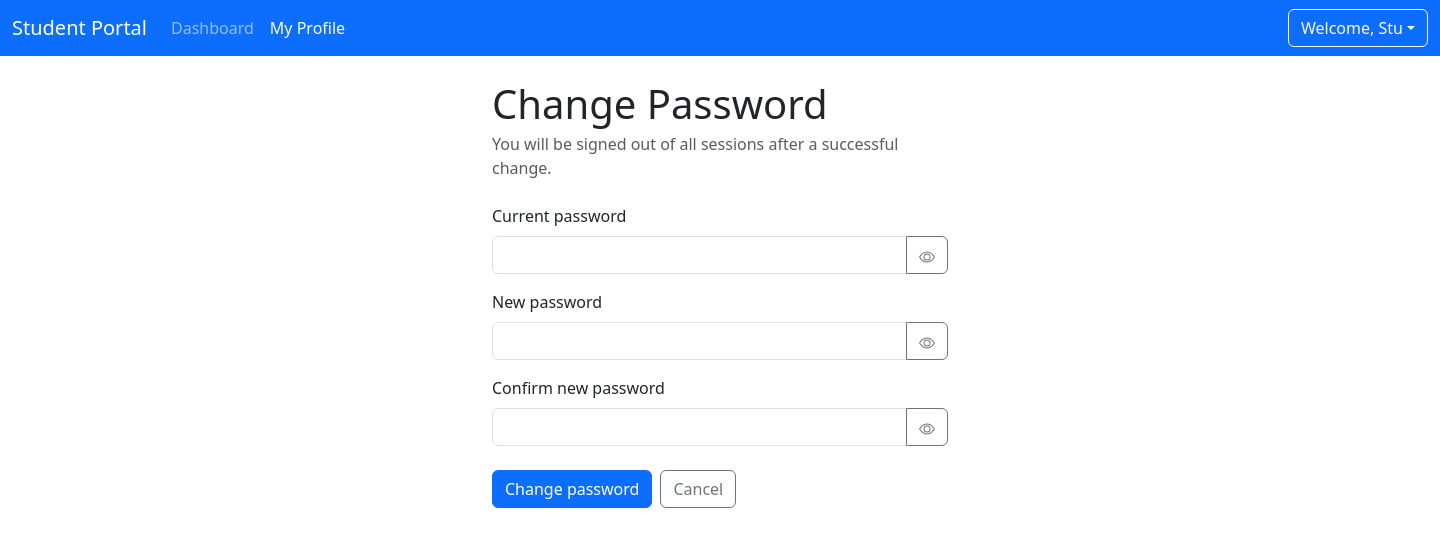
it: ChangePasswordPage (§5.10) › when the server returns 400 with a message then the field error renders inline
Type "wrong!PwdABC" into the password field labelled "Current password".
click(700, 255); type("wrong!PwdABC")  # box [492,236,907,274]
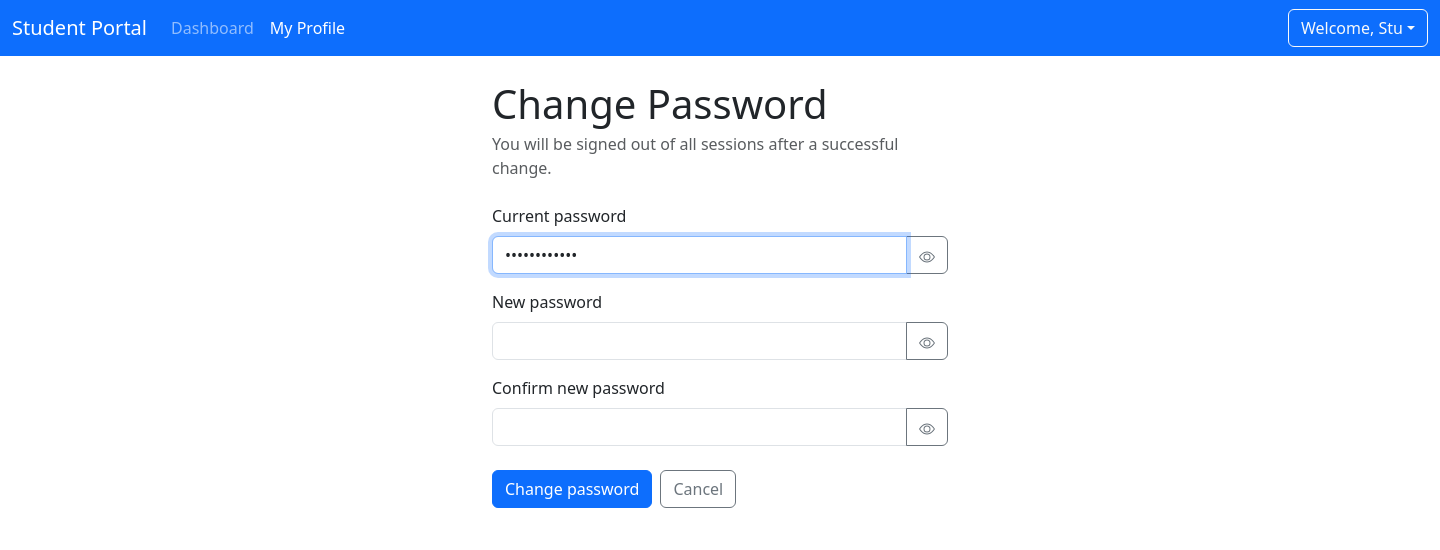
Type "NewPassword!1A" into the password field labelled "New password".
click(700, 341); type("NewPassword!1A")  # box [492,322,907,360]
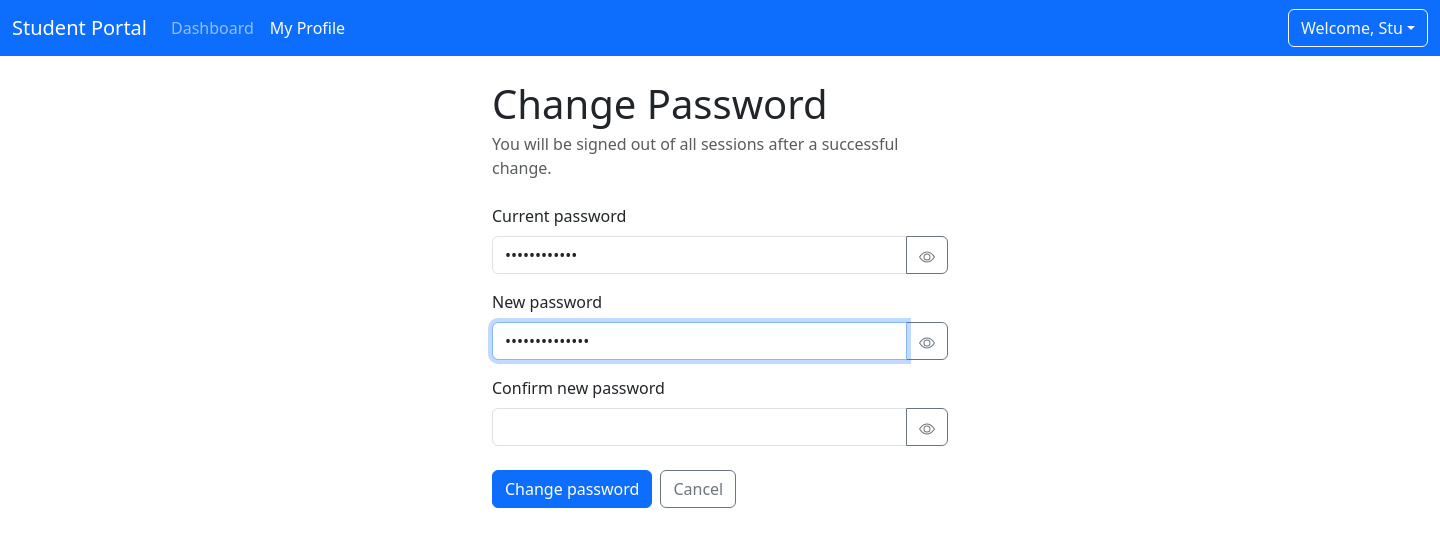
Type "NewPassword!1A" into the password field labelled "Confirm new password".
click(700, 427); type("NewPassword!1A")  # box [492,408,907,446]
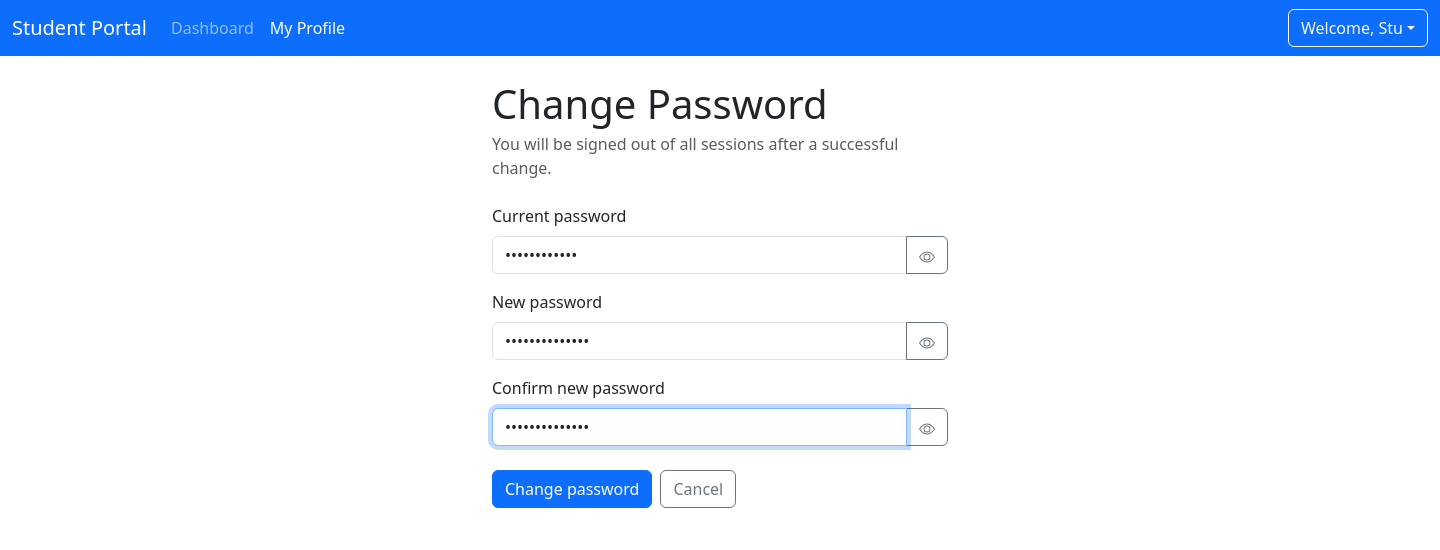
Click the button "Change password".
click(572, 489)  # box [492,470,652,508]
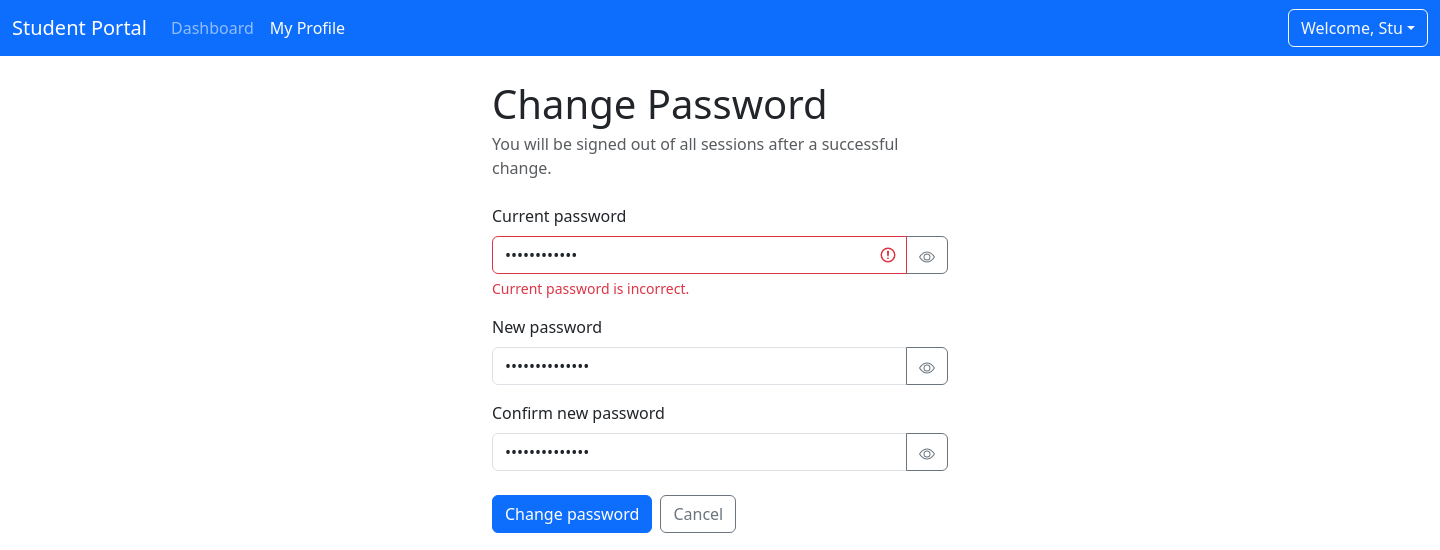
Expected: the text "Current password is incorrect." is shown, [492,279,689,298]
